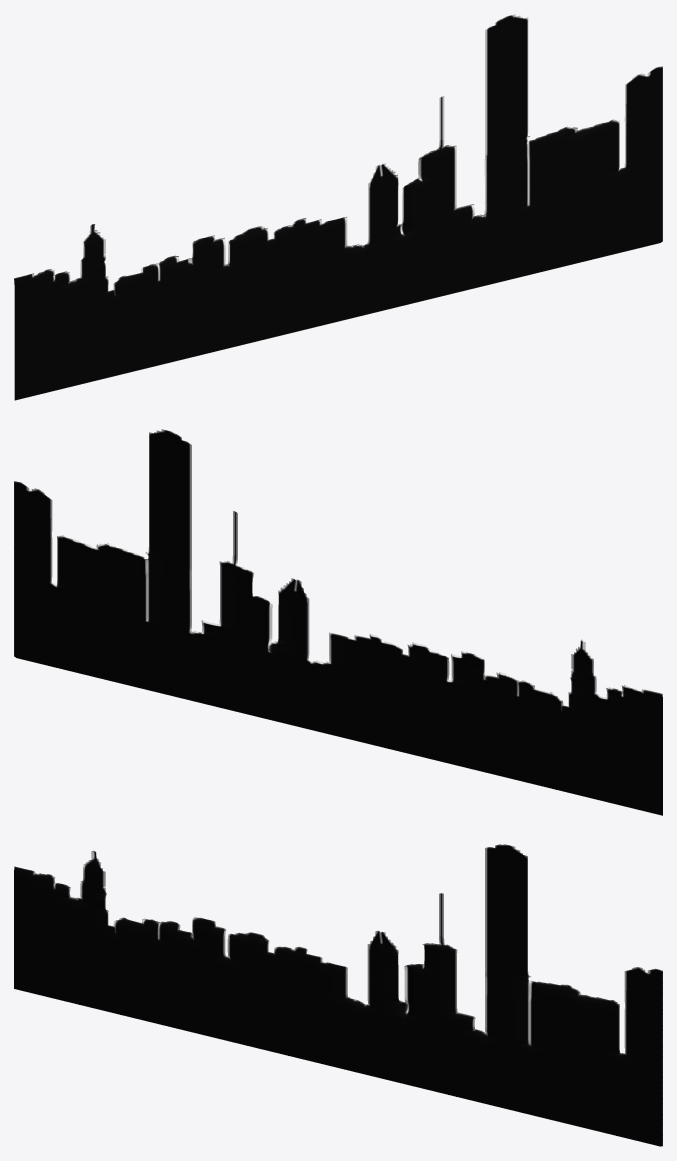
The model's file is city2.obj.
The picture shows the model from 3 angles, top to bottom: view 1: azimuth 30°, elevation 25°; view 2: azimuth 150°, elevation 25°; view 3: azimuth 330°, elevation 25°; orthographic projection.
Size of the model in its own units: 4 by 1.56 by 0.0386.
